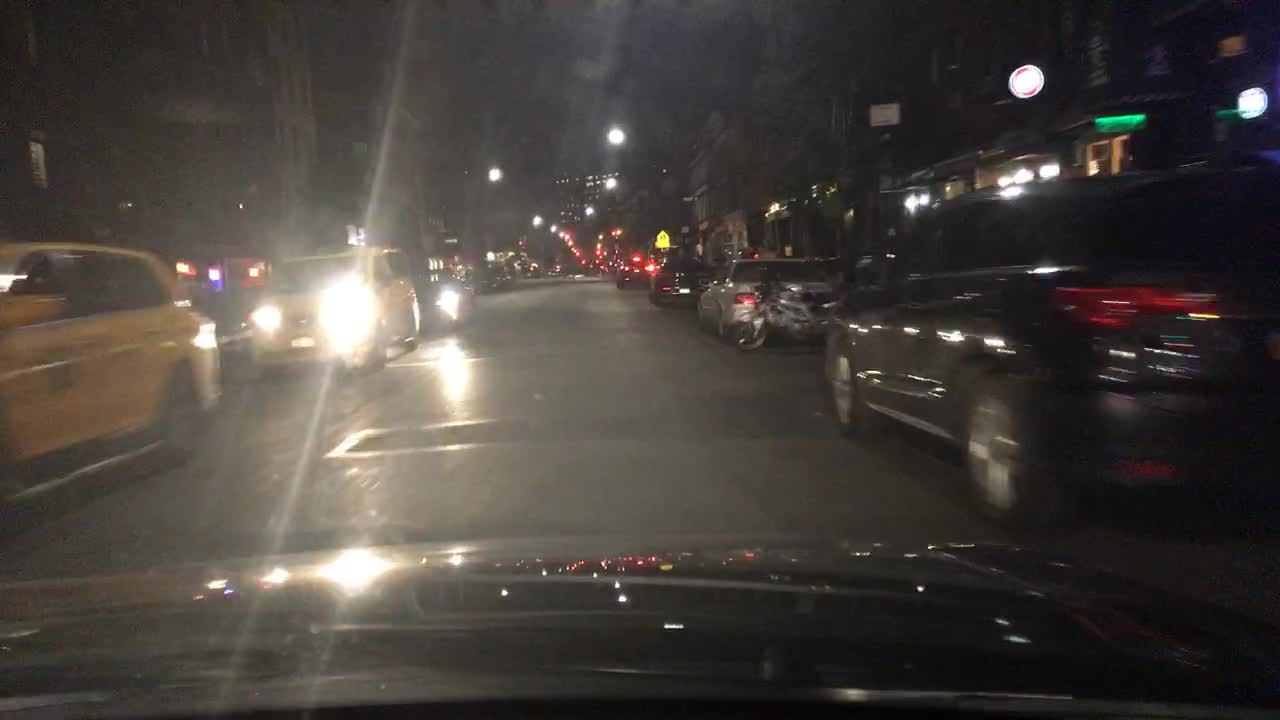bike: (726, 267, 838, 348)
car: (820, 160, 1277, 550), (0, 234, 225, 527), (247, 245, 423, 379), (699, 252, 834, 353), (176, 257, 257, 361), (647, 242, 715, 310), (410, 268, 473, 325), (612, 248, 650, 286), (481, 264, 514, 294), (514, 253, 534, 279), (579, 257, 599, 275), (535, 260, 550, 278)
traffic sign: (868, 99, 899, 126), (653, 224, 672, 249)
